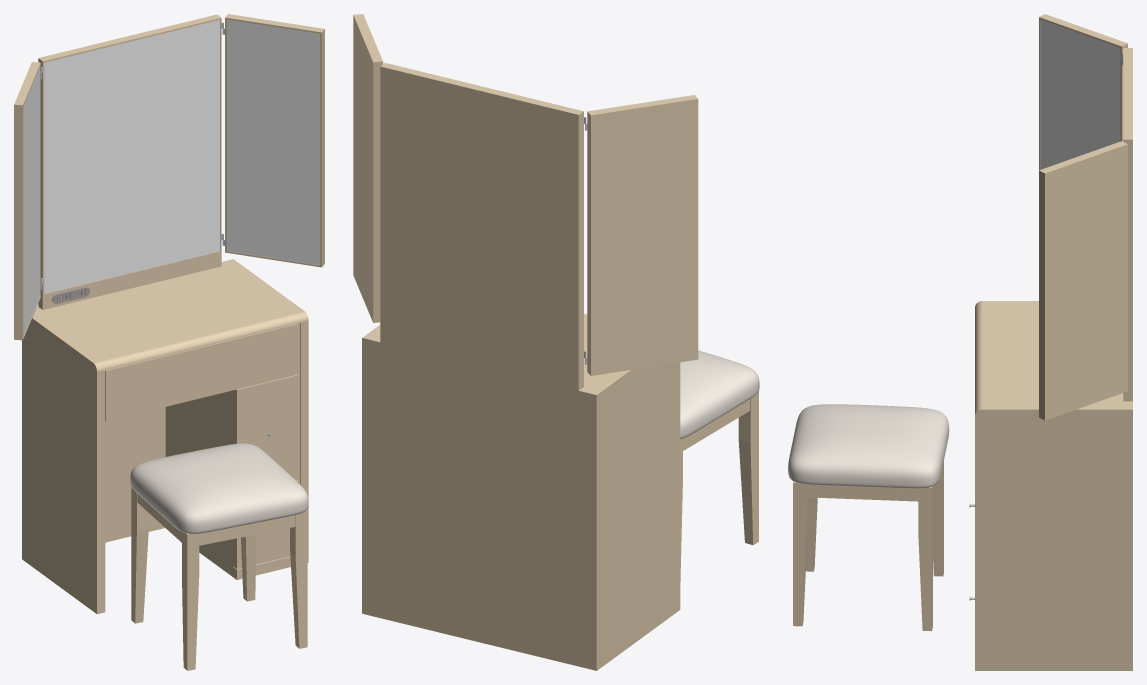
The model's file is 519_ドレッサー.glb.
3 renders of one model, left to right at view 1: azimuth 30°, elevation 25°; view 2: azimuth 150°, elevation 25°; view 3: azimuth 270°, elevation 25°, orthographic. The views are drawn at different scales.
Parts seen in each view (by area): view 1: Body, mirror_migi, stool, hikidashi1, mirror_hidari, hikidashi2, hikidashi3; view 2: Body, mirror_hidari, stool, mirror_migi; view 3: Body, mirror_migi, stool, mirror_hidari.
Part boxes in pixels (x1,y1,x2,y2): Body: [22, 14, 308, 614]; mirror_migi: [222, 14, 324, 267]; stool: [130, 443, 308, 670]; hikidashi1: [105, 323, 299, 421]; mirror_hidari: [14, 62, 41, 340]; hikidashi2: [233, 374, 299, 480]; hikidashi3: [233, 479, 299, 569]; Body: [362, 63, 680, 670]; mirror_hidari: [585, 95, 698, 375]; stool: [680, 350, 759, 581]; mirror_migi: [353, 14, 383, 322]; Body: [975, 48, 1132, 670]; mirror_migi: [1039, 141, 1127, 420]; stool: [788, 404, 949, 631]; mirror_hidari: [1039, 14, 1127, 170].
Bounding box in the file's own units: 0.9553 × 1.46 × 0.8726.
